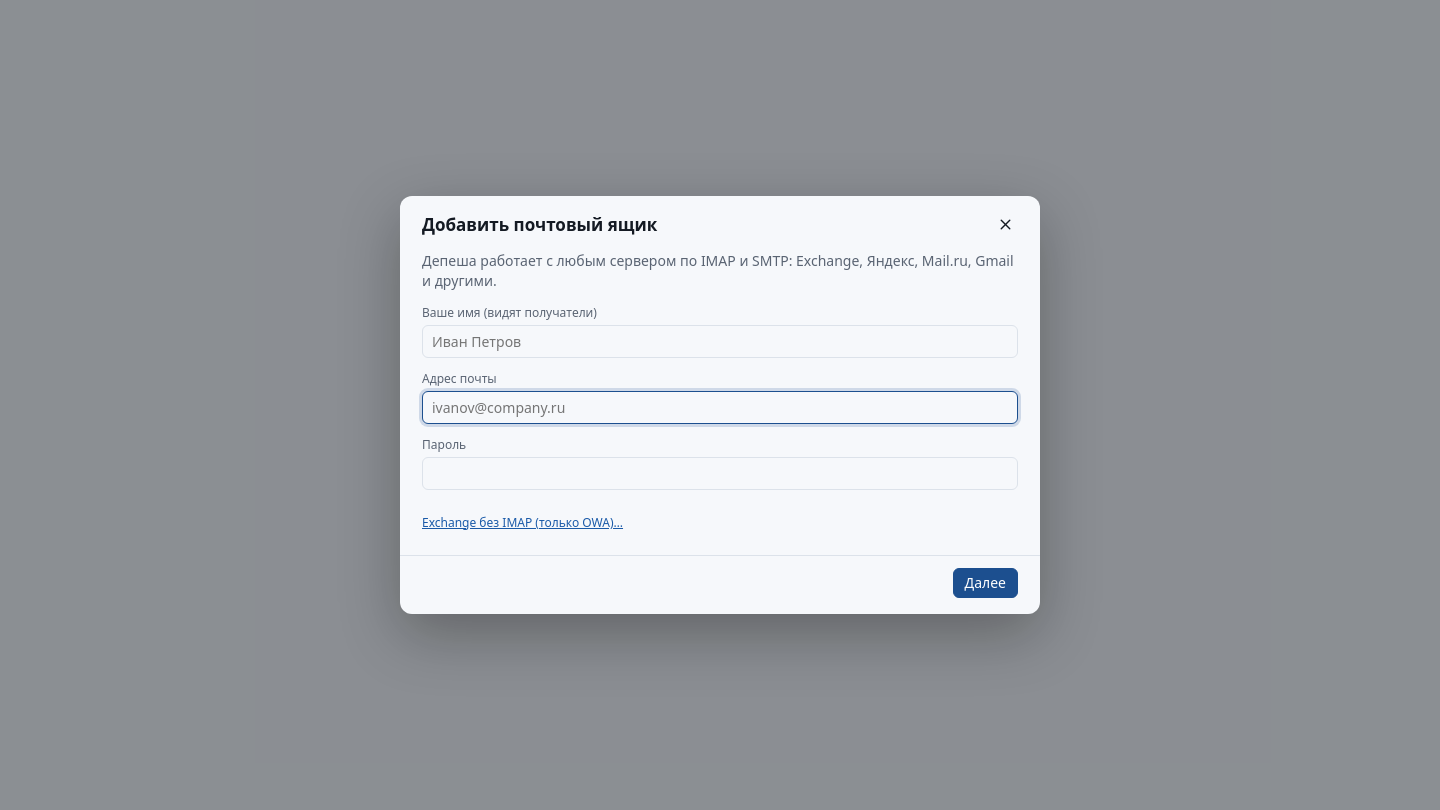
Test case: the error of a failed check in the wizard (А3) › stands under the block of its server when the certificate of that server is not trusted
Type "jane@example.com" into the field labelled "Адрес почты" at (720, 407), box [422,391,1018,424]
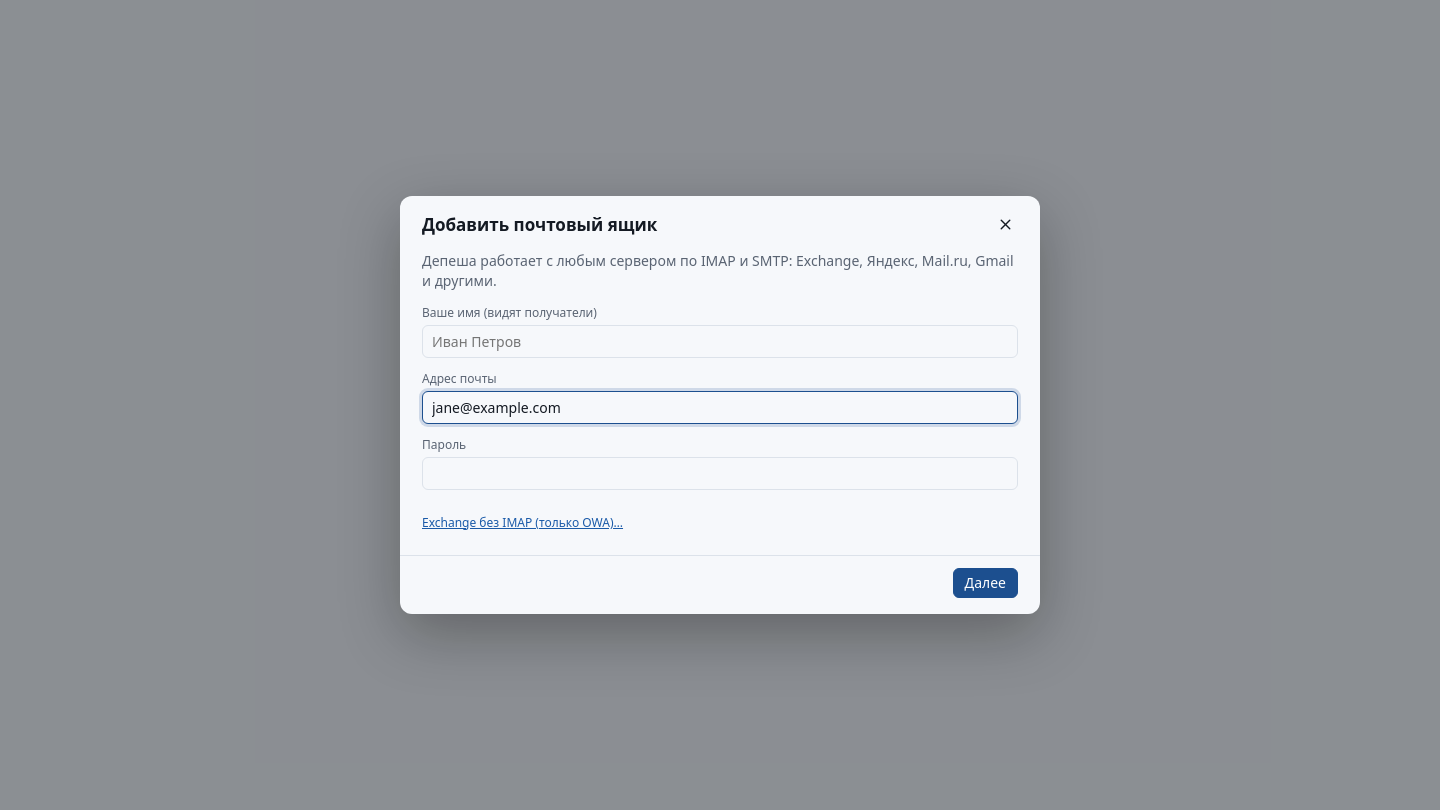
Type "secret" into the password field labelled "Пароль" at (720, 473), box [422,457,1018,490]
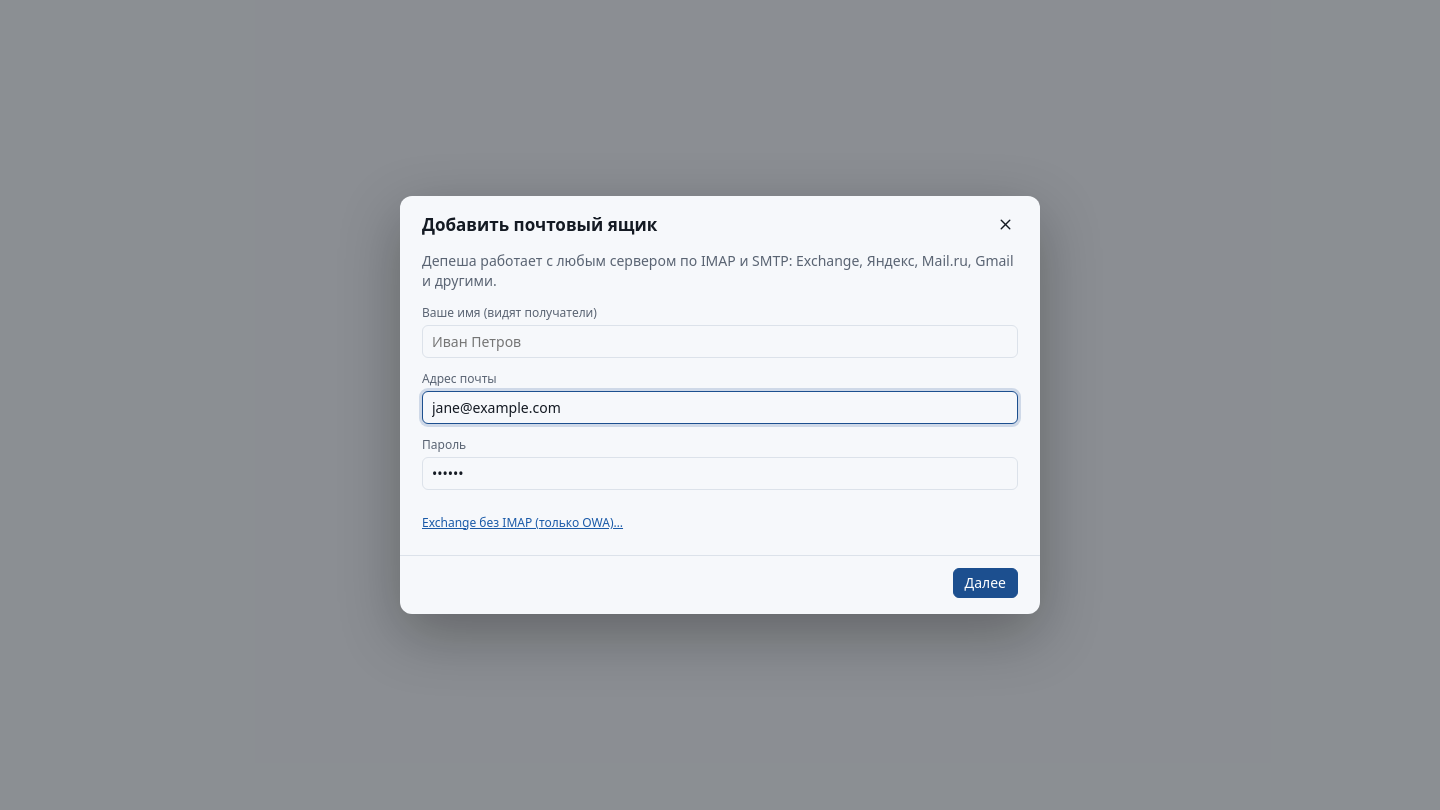
Click the button "Далее" at (985, 583), box [953,568,1018,598]
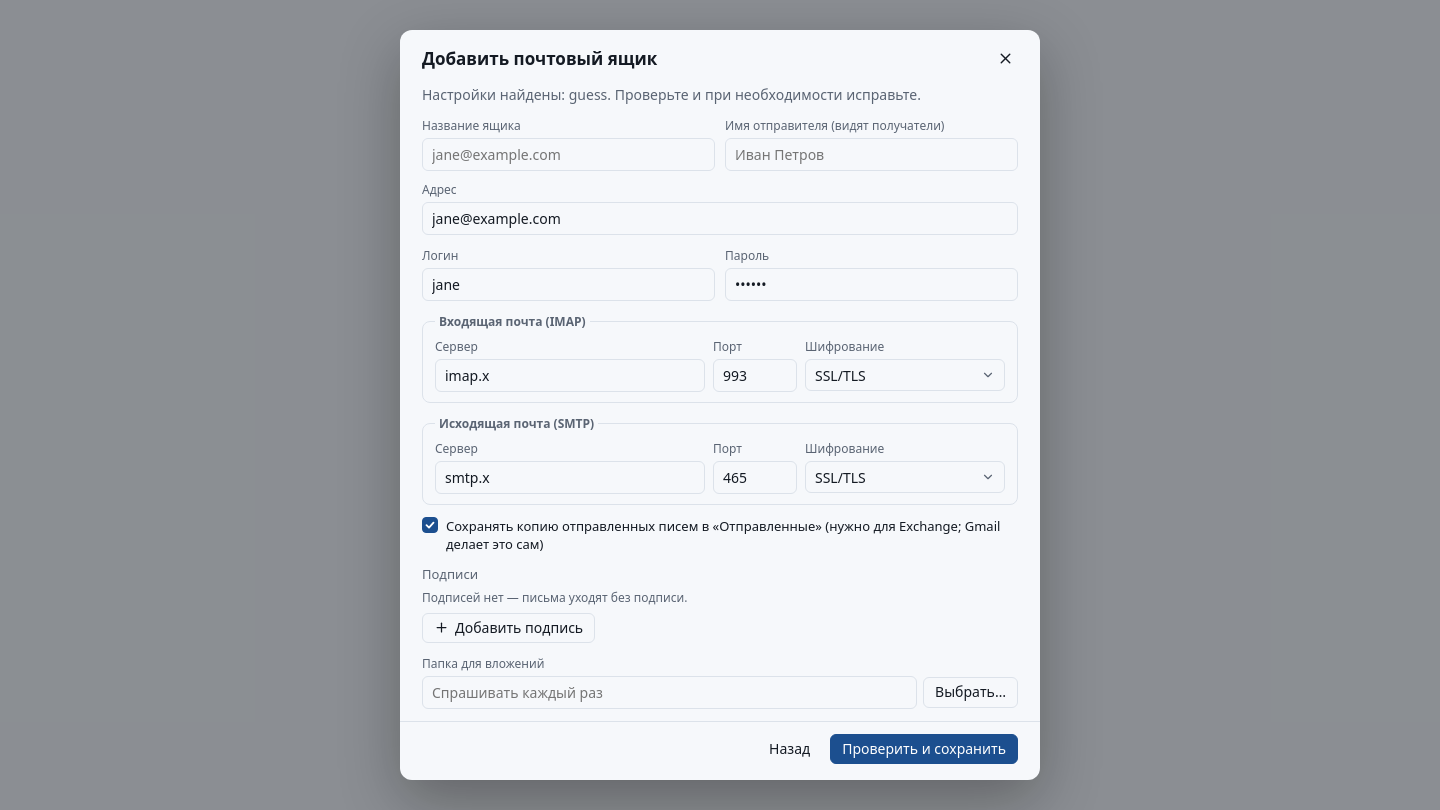
Now the element showing "Входящая почта (IMAP) Сервер Порт Шифрование SSL/TLS" is shown, box [422,313,1018,403]
Click the button "Проверить и сохранить" at (924, 749), box [830,734,1018,764]
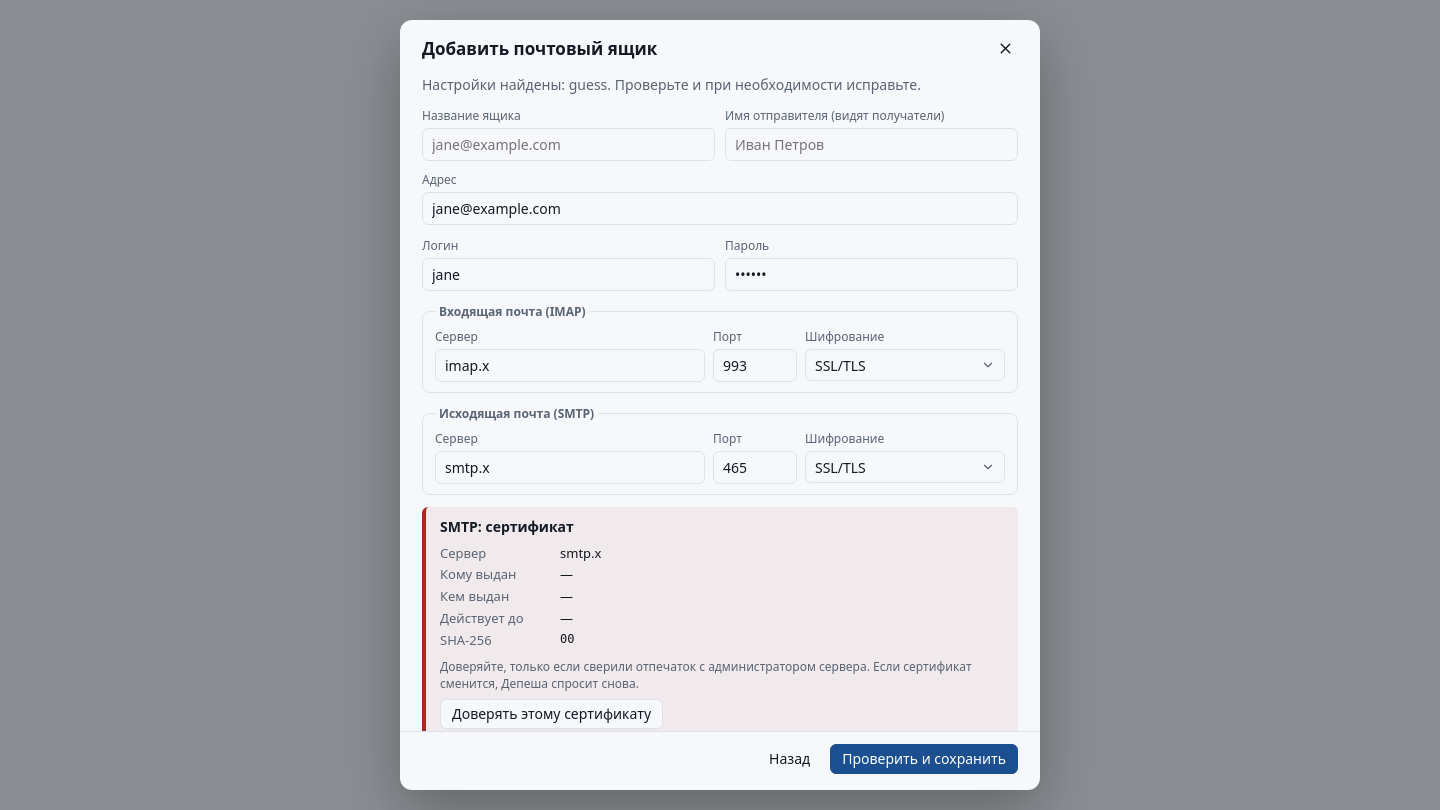
Now the text "Исходящая почта (SMTP)" is shown, box [435,405,598,422]
Now the number of elements with class "error" is 1, box [422,507,1018,731]
